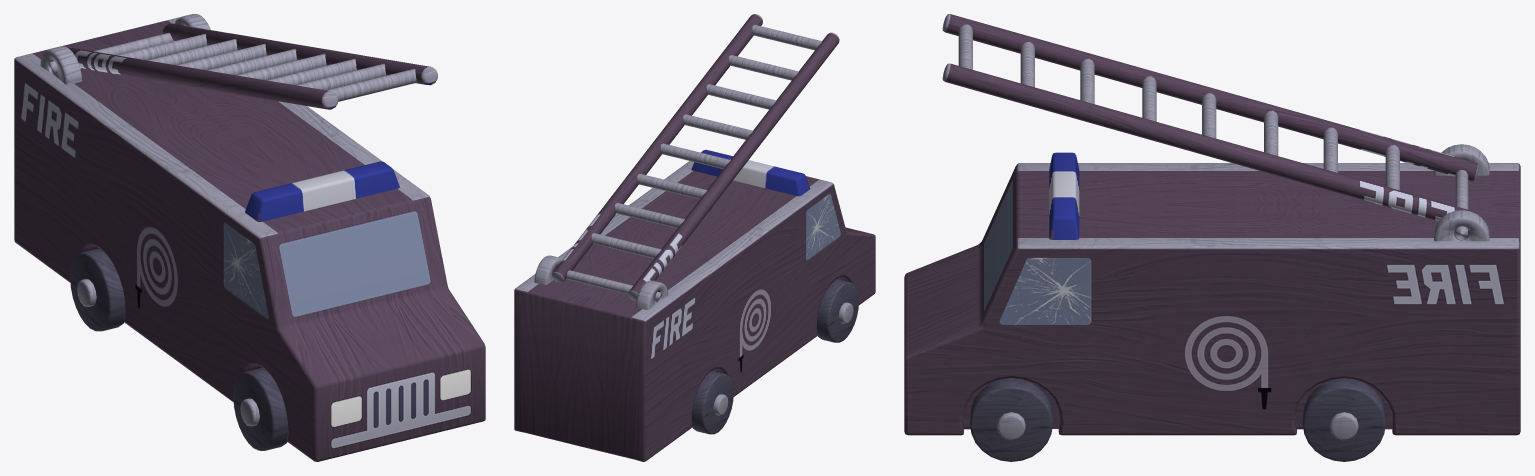
Rendered from Firetruck_02.fbx.
3 renders of one model, left to right at view 1: azimuth 30°, elevation 25°; view 2: azimuth 150°, elevation 25°; view 3: azimuth 270°, elevation 25°, orthographic. The views are drawn at different scales.
Parts seen in each view (by area): view 1: Firetruck; view 2: Firetruck; view 3: Firetruck.
Boxes of the visible parts, box(x1,y1,x2,y2) form: Firetruck: box(14, 14, 485, 461); Firetruck: box(514, 14, 875, 461); Firetruck: box(904, 14, 1520, 461).
Size of the model in its own units: 220 by 379 by 564.
